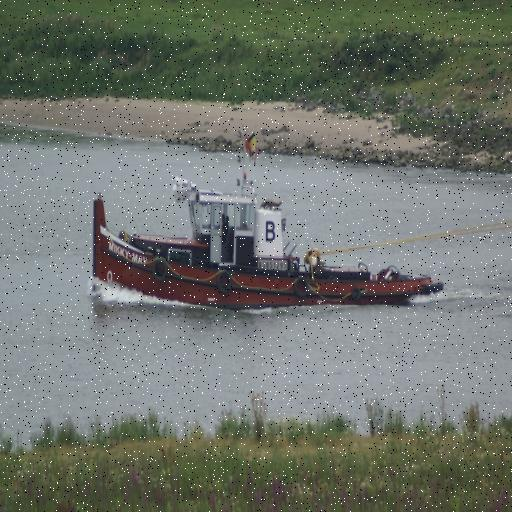tugboat: (91, 175, 447, 323)
